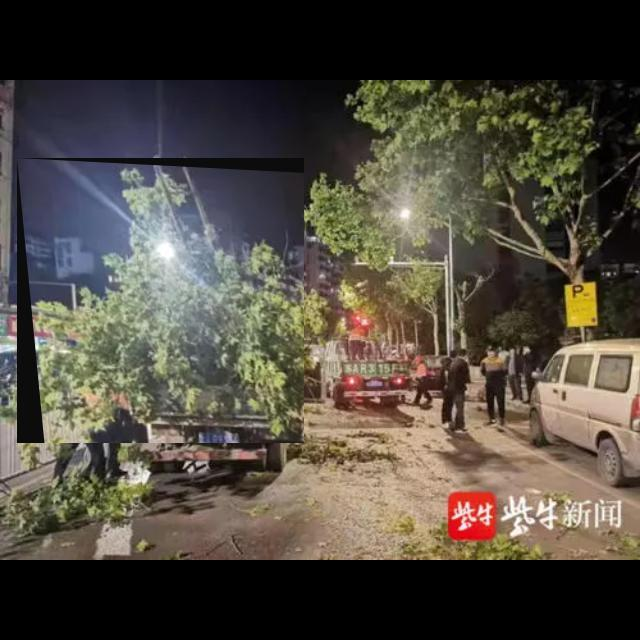fallen_tree: (17, 158, 305, 444)
